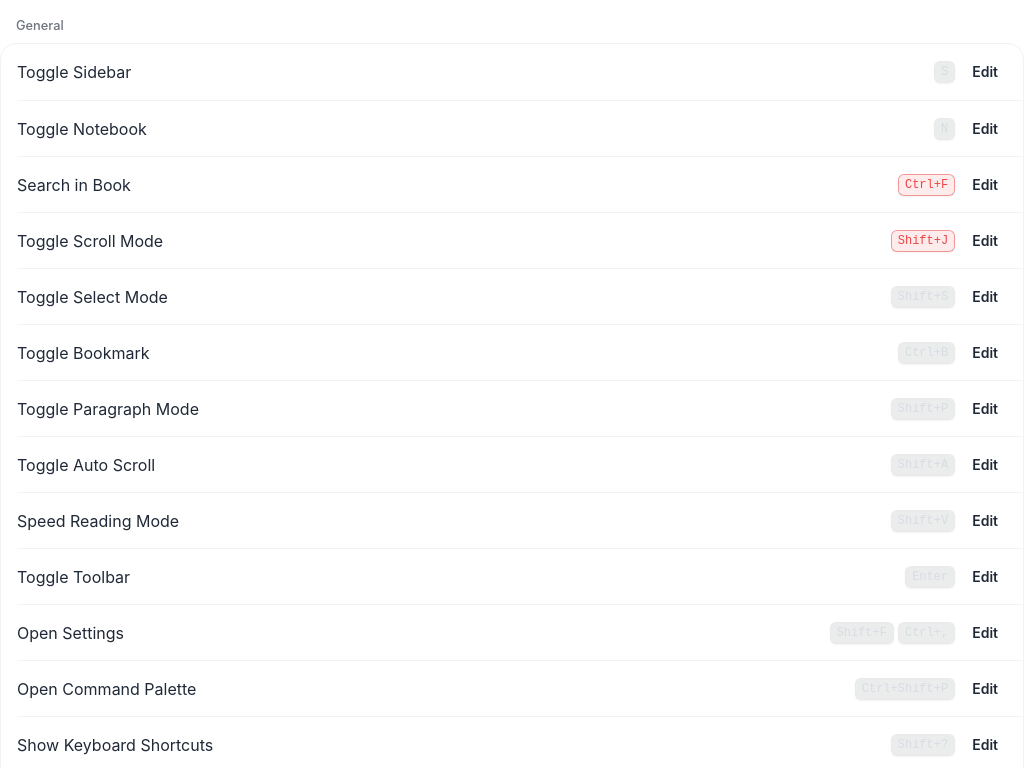
Test case: KeyboardShortcutsPanel › clears a shortcut with Backspace
Click the button "Edit" in the row of "Toggle Sidebar": (985, 72) [963,56,1007,88]
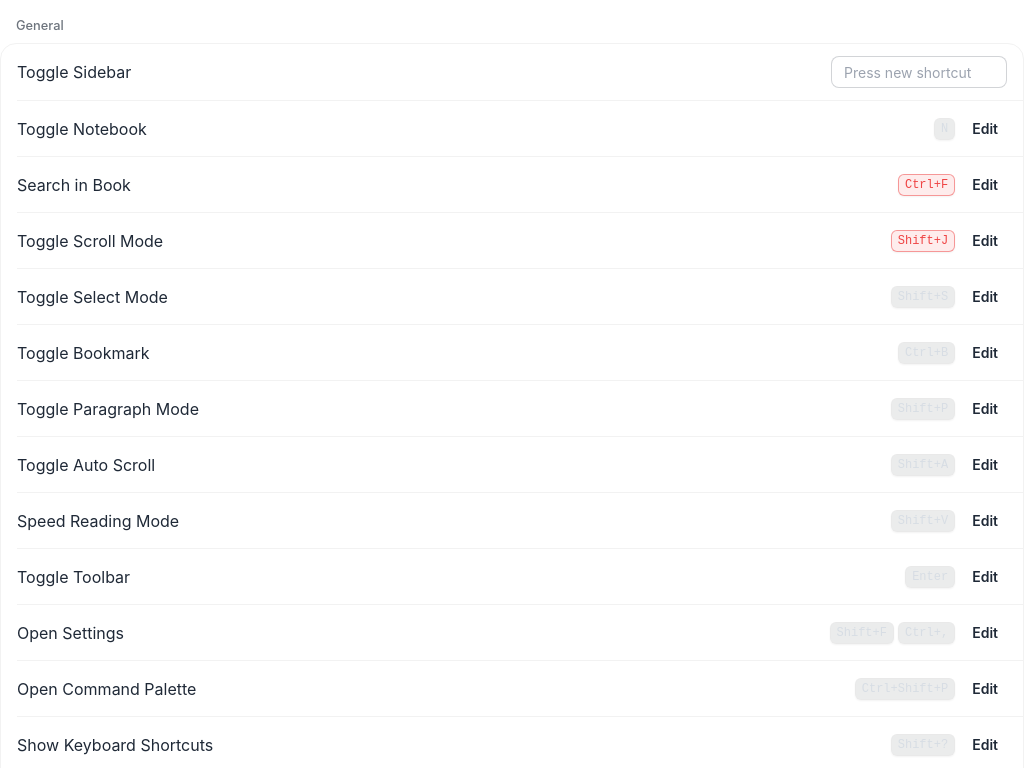
Press Backspace in the field with placeholder "Press new shortcut", box [831,56,1007,88]
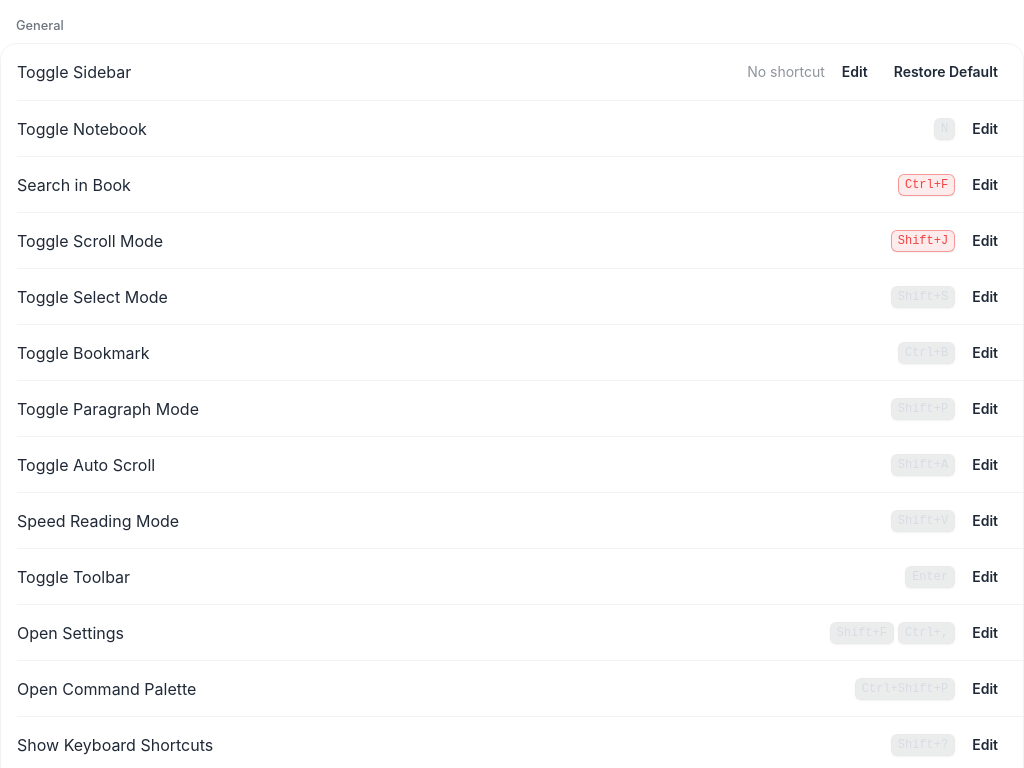
Result: the text "No shortcut" is shown at [747,62,825,82]
